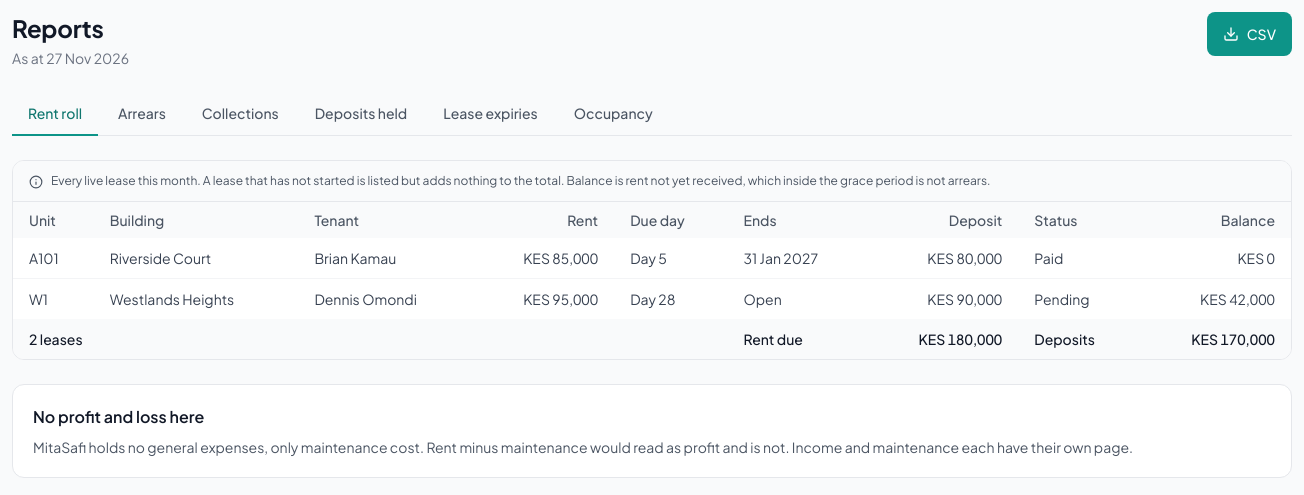
ReportsClient › keeps the arrears warning about leases with no ledger at all
Click the tab "Arrears".
click(142, 114)  # box [102, 92, 182, 136]
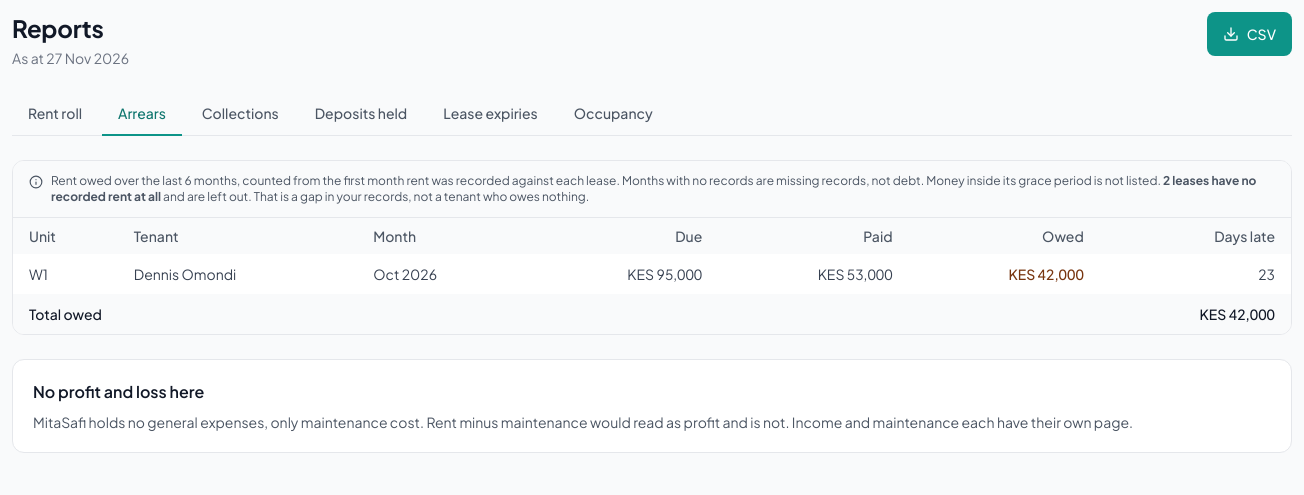
Now the text "2 leases have no recorded rent at all" is shown, box [51, 173, 1256, 204]
Now the text "gap in your records" is shown, box [205, 189, 589, 204]
